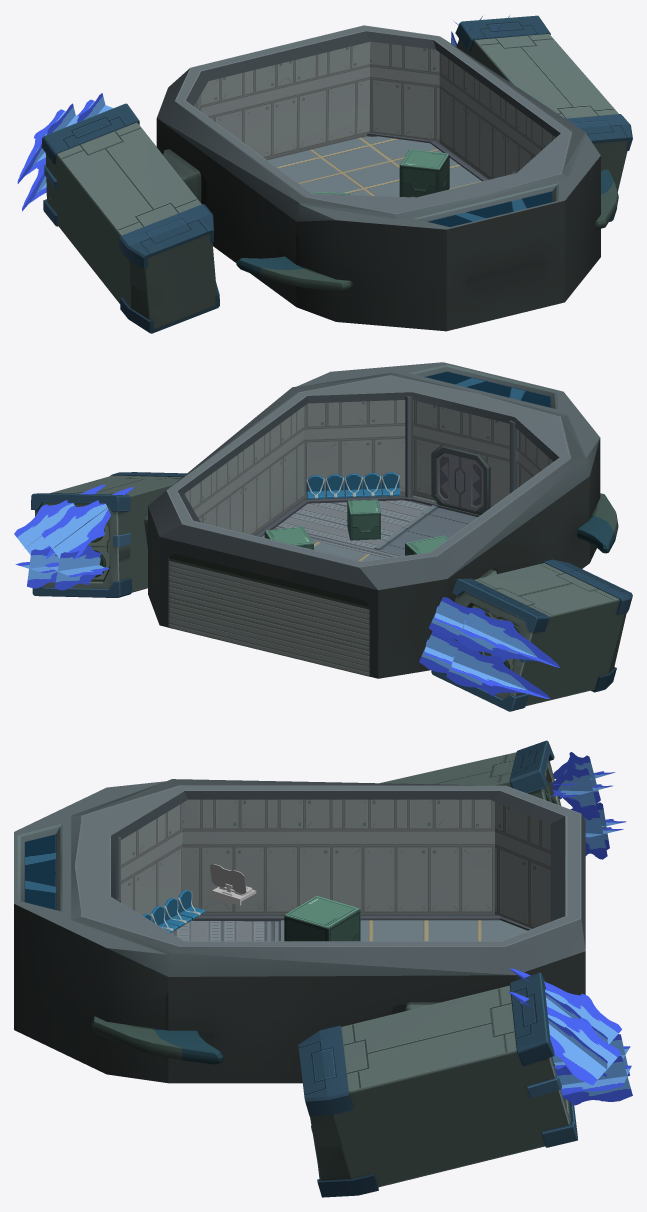
The picture shows the model from 3 angles, top to bottom: view 1: azimuth 30°, elevation 25°; view 2: azimuth 150°, elevation 25°; view 3: azimuth 270°, elevation 25°; orthographic projection. The views are drawn at different scales.
Parts seen in each view (by area): view 1: PL_Waiting02, PL_Waiting03, PL_Waiting01, PL_Waiting04, FXS_SpcecStartRoom_01__6_, FXS_SpcecStartRoom_01__4_, FXS_SpcecStartRoom_01__5_; view 2: PL_Waiting02, PL_Waiting03, PL_Waiting01, FXS_SpcecStartRoom_01__6_, FXS_SpcecStartRoom_01__4_, PL_Waiting04, FXS_SpcecStartRoom_01__2_, FXS_SpcecStartRoom_01, FXS_SpcecStartRoom_01__1_, FXS_SpcecStartRoom_01__5_, FXS_SpcecStartRoom_01__7_, FXS_SpcecStartRoom_01__3_; view 3: PL_Waiting02, PL_Waiting03, PL_Waiting01, FXS_SpcecStartRoom_01__1_, PL_Waiting04, FXS_SpcecStartRoom_01__3_, FXS_SpcecStartRoom_01__2_, FXS_SpcecStartRoom_01__5_, LI_RouteCorrector (3), FXS_SpcecStartRoom_01__7_, FXS_SpcecStartRoom_01__6_.
Boxes of the visible parts, <box> form: PL_Waiting02: <box>156,25,600,331</box>; PL_Waiting03: <box>41,15,632,333</box>; PL_Waiting01: <box>268,132,517,197</box>; PL_Waiting04: <box>310,149,449,197</box>; FXS_SpcecStartRoom_01__6_: <box>17,103,78,183</box>; FXS_SpcecStartRoom_01__4_: <box>22,162,46,211</box>; FXS_SpcecStartRoom_01__5_: <box>77,93,113,122</box>; PL_Waiting02: <box>148,362,600,678</box>; PL_Waiting03: <box>31,472,632,711</box>; PL_Waiting01: <box>254,395,515,561</box>; FXS_SpcecStartRoom_01__6_: <box>457,608,559,667</box>; FXS_SpcecStartRoom_01__4_: <box>446,646,550,698</box>; PL_Waiting04: <box>264,499,448,555</box>; FXS_SpcecStartRoom_01__2_: <box>41,487,134,559</box>; FXS_SpcecStartRoom_01: <box>44,545,109,590</box>; FXS_SpcecStartRoom_01__1_: <box>14,484,105,558</box>; FXS_SpcecStartRoom_01__5_: <box>429,597,485,639</box>; FXS_SpcecStartRoom_01__7_: <box>419,631,480,673</box>; FXS_SpcecStartRoom_01__3_: <box>15,547,59,588</box>; PL_Waiting02: <box>14,779,585,1083</box>; PL_Waiting03: <box>92,740,577,1197</box>; PL_Waiting01: <box>115,836,532,941</box>; FXS_SpcecStartRoom_01__1_: <box>508,992,620,1085</box>; PL_Waiting04: <box>284,895,360,941</box>; FXS_SpcecStartRoom_01__3_: <box>555,1056,632,1105</box>; FXS_SpcecStartRoom_01__2_: <box>510,968,621,1043</box>; FXS_SpcecStartRoom_01__5_: <box>549,764,612,816</box>; LI_RouteCorrector (3): <box>210,864,256,905</box>; FXS_SpcecStartRoom_01__7_: <box>579,811,623,859</box>; FXS_SpcecStartRoom_01__6_: <box>552,752,615,803</box>.
Size of the model in its own units: 20.4 by 5.71 by 16.66.
